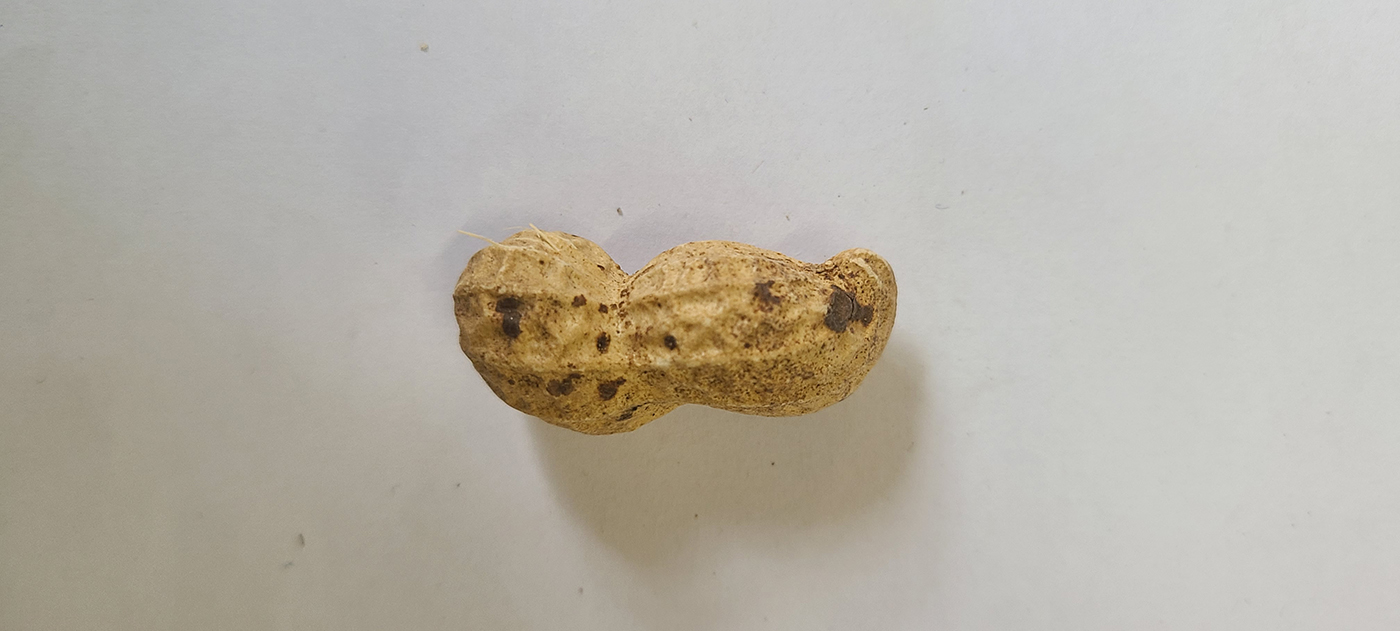h: (451, 226, 901, 438)
